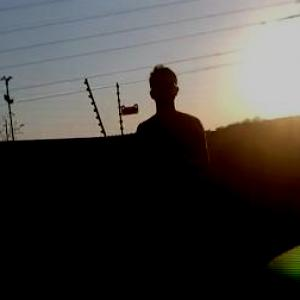follow: (131, 56, 218, 299)
